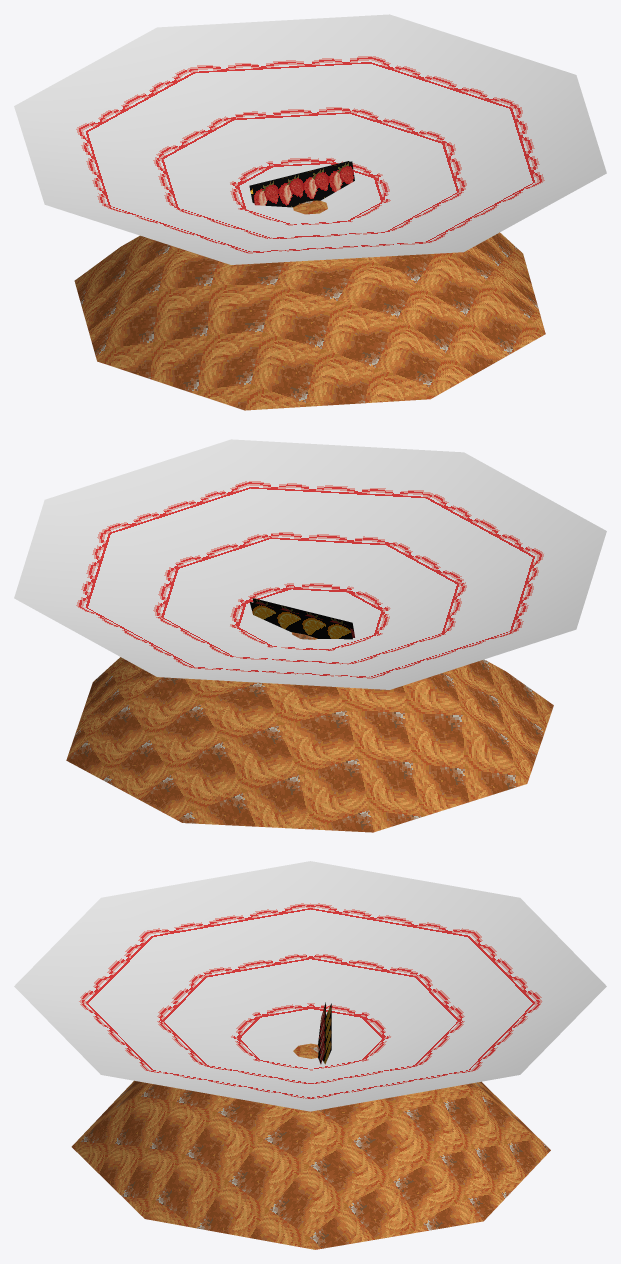
The model's file is 5556u_past02_ss.gltf.
3 views of the same model, one above another, from view 1: azimuth 30°, elevation 25°; view 2: azimuth 150°, elevation 25°; view 3: azimuth 270°, elevation 25° (orthographic). The views are drawn at different scales.
Parts seen in each view (by area): view 1: 5556u_past02_ss; view 2: 5556u_past02_ss; view 3: 5556u_past02_ss.
Part boxes in pixels (box(x1,y1,x2,y2)): 5556u_past02_ss: box(14, 14, 606, 410); 5556u_past02_ss: box(14, 439, 606, 832); 5556u_past02_ss: box(14, 861, 606, 1249).
Bounding box in the file's own units: 0.8994 × 0.2715 × 0.8994.
5 materials, 5 textured.
